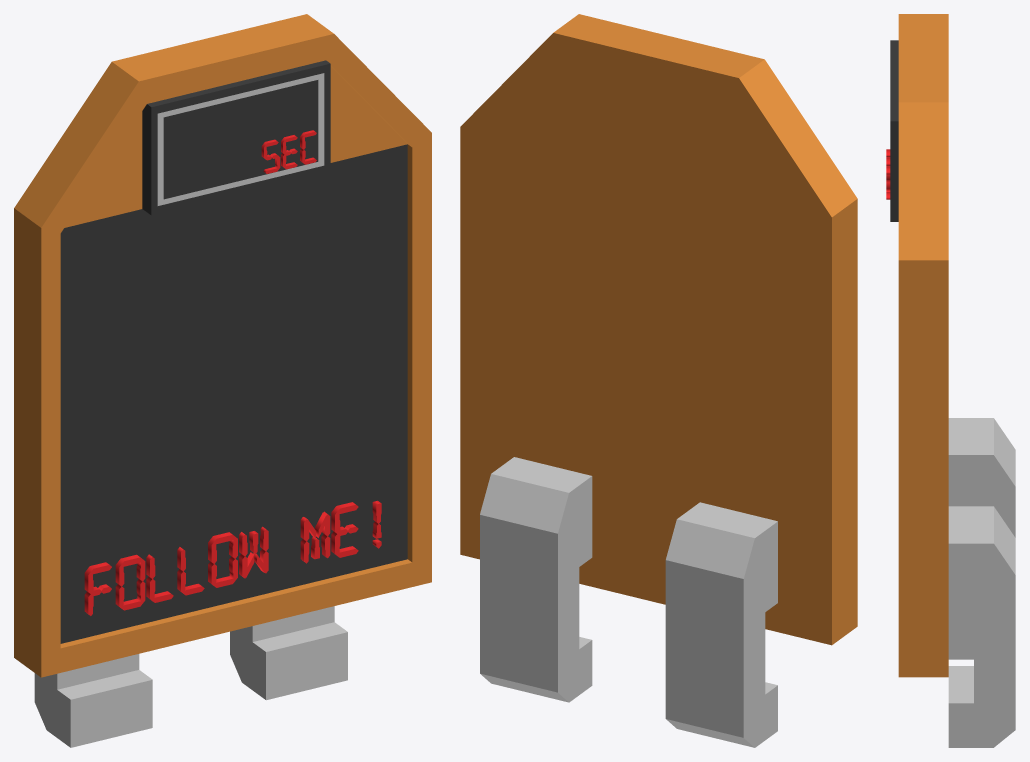
File: TileBoardFbx.fbx
3 renders of one model, left to right at view 1: azimuth 30°, elevation 25°; view 2: azimuth 150°, elevation 25°; view 3: azimuth 270°, elevation 25°, orthographic. The views are drawn at different scales.
Parts seen in each view (by area): view 1: Board; view 2: Board; view 3: Board.
Boxes of the visible parts, <box> form: Board: <box>14,14,431,747</box>; Board: <box>460,14,857,747</box>; Board: <box>886,14,1015,747</box>.
Bounding box in the file's own units: 5 × 8.27 × 1.55.
